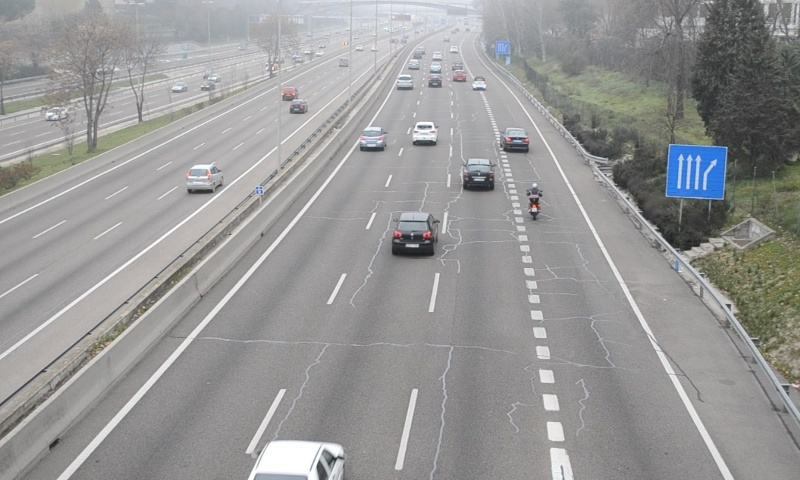car: (248, 442, 346, 480), (392, 212, 437, 254), (462, 160, 496, 190), (500, 126, 530, 151), (358, 127, 386, 150), (412, 122, 438, 144), (396, 72, 412, 90), (472, 76, 486, 91)
motorcycle: (525, 181, 543, 222)
